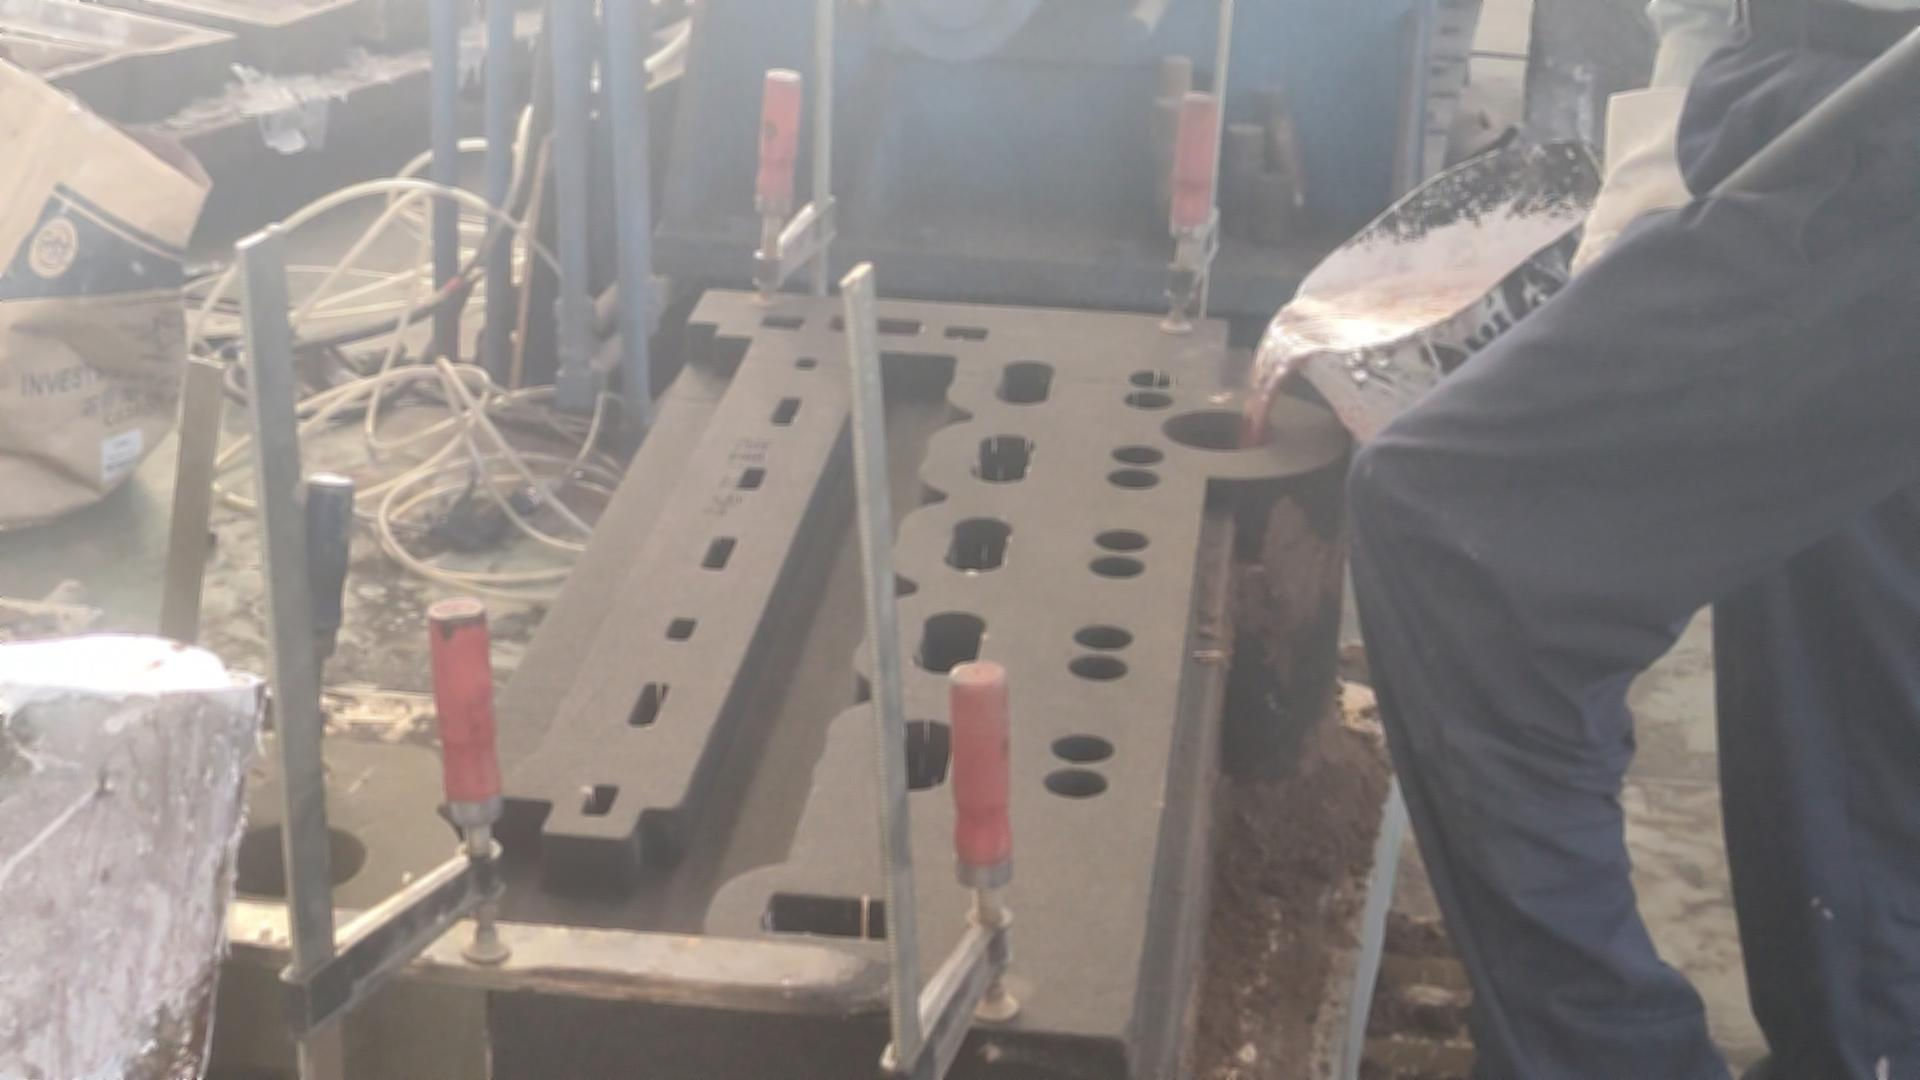pouring hole: (218, 820, 371, 897), (1162, 406, 1280, 454)
